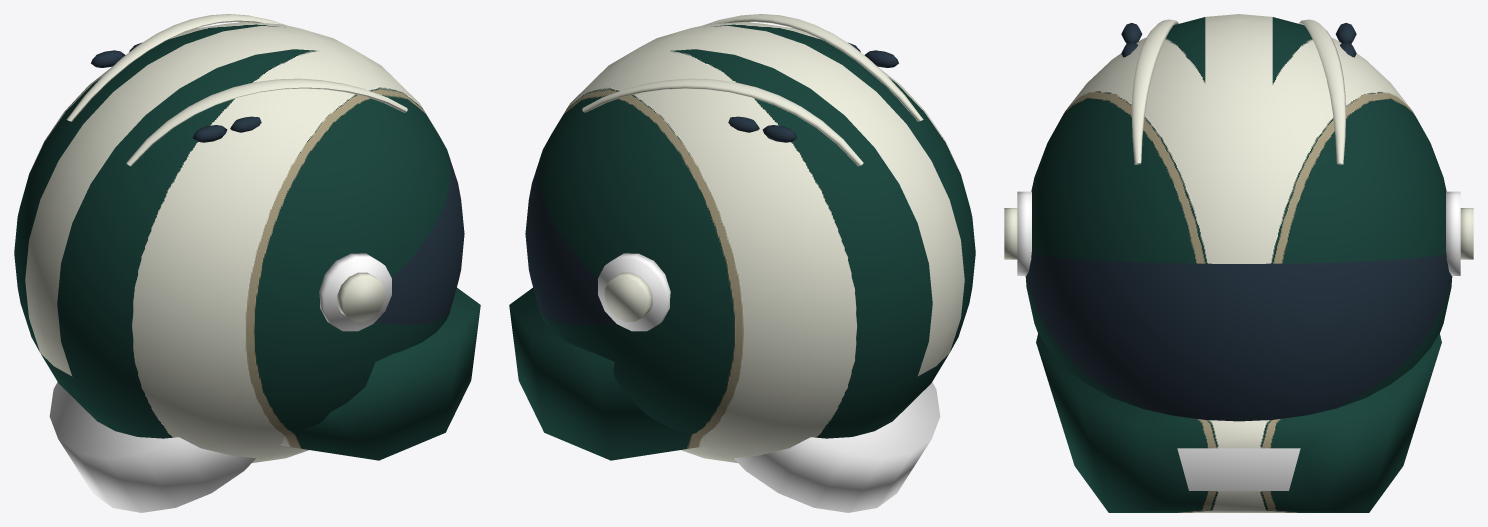
The model's file is Helmet_15_R_深緑・銀襟.glb.
3 views of the same model, side by side, from view 1: azimuth 30°, elevation 25°; view 2: azimuth 150°, elevation 25°; view 3: azimuth 270°, elevation 25° (orthographic). The views are drawn at different scales.
Parts seen in each view (by area): view 1: Helmet_15_R, Visor; view 2: Helmet_15_R, Visor; view 3: Helmet_15_R, Visor.
Boxes of the visible parts, x1,y1,x2,y2 form: Helmet_15_R: (14, 14, 480, 512); Visor: (91, 42, 464, 324); Helmet_15_R: (509, 14, 975, 512); Visor: (525, 42, 898, 324); Helmet_15_R: (1004, 14, 1473, 512); Visor: (1026, 23, 1451, 421).
Bounding box in the file's own units: 0.301 × 0.305 × 0.289.
3 materials, 3 textured.
